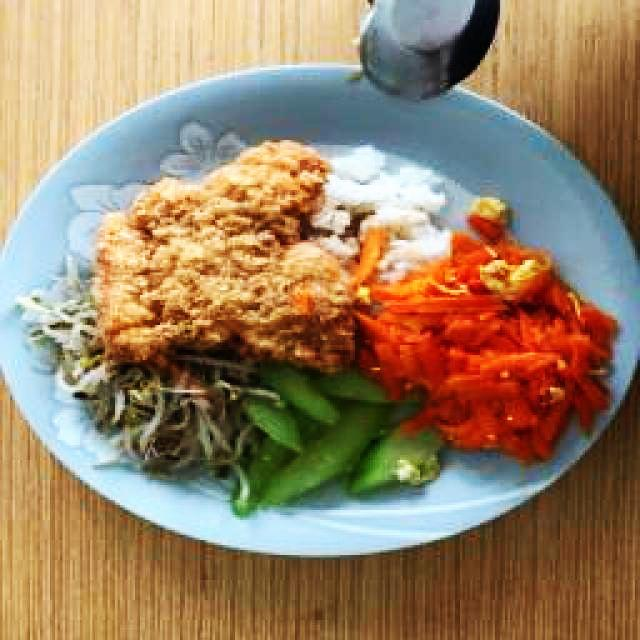carrot_eggs: (356, 198, 616, 463)
fried_chicken: (91, 138, 360, 372)
mung_bean_sprouts: (112, 370, 236, 471)
rice: (331, 161, 444, 220)
tostitos cheese dip sauce: (2, 60, 637, 561)
